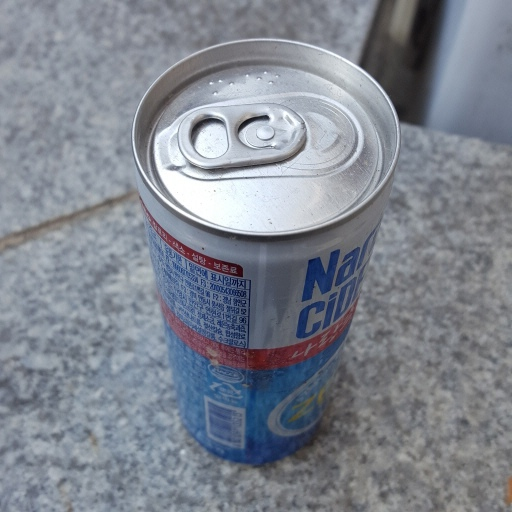Metal_0: (130, 37, 401, 466)
